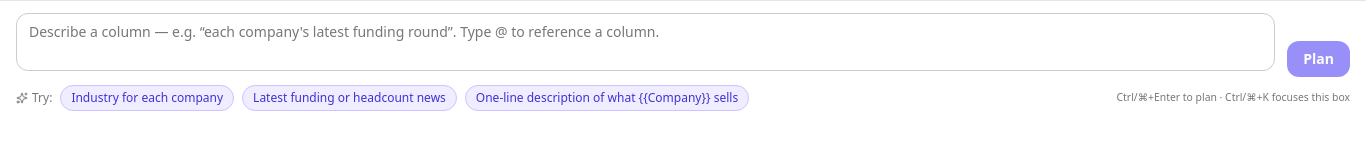
Test case: prompt bar submission › a suggestion chip fills the textarea
The width and height of the screenshot is (1366, 160).
Click the button "Industry for each company": (147, 98) [60,85,234,111]
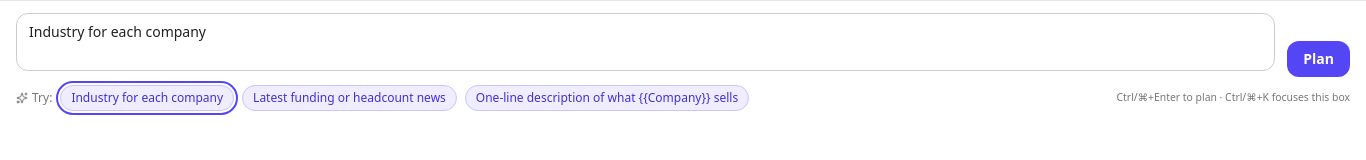
Now the text box named "Describe the column to add" holds "Industry for each company", box [16,13,1275,71]
